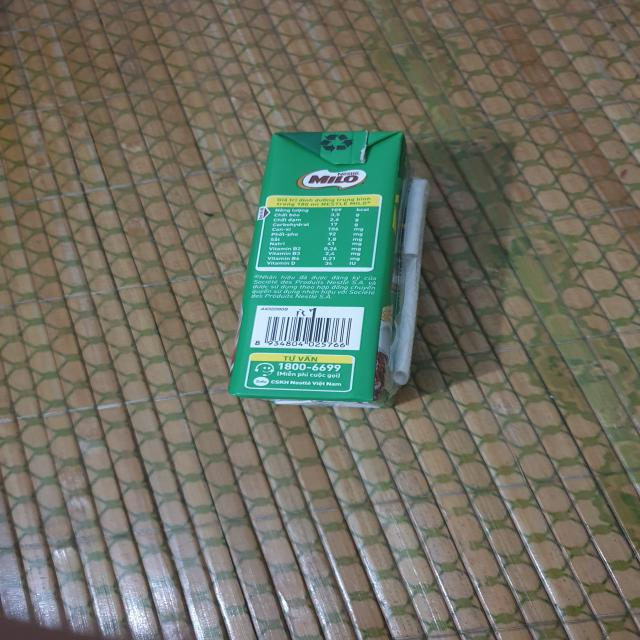Milo: (232, 122, 427, 414)
